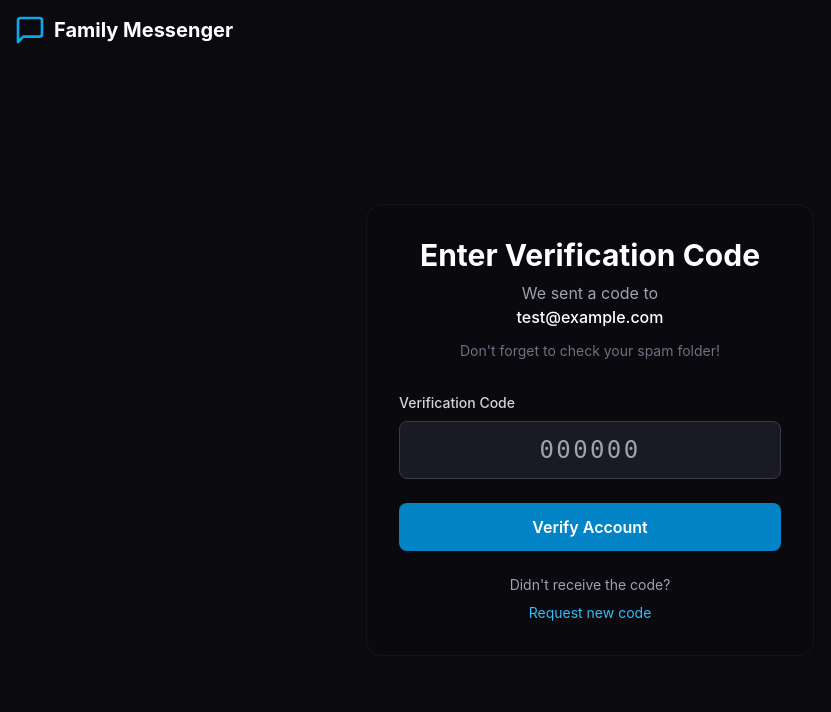
Test: Confirm Page › displays error when verification fails
Type "wrongcode" into the field labelled "Verification Code" at (590, 450), box [399, 421, 781, 479]
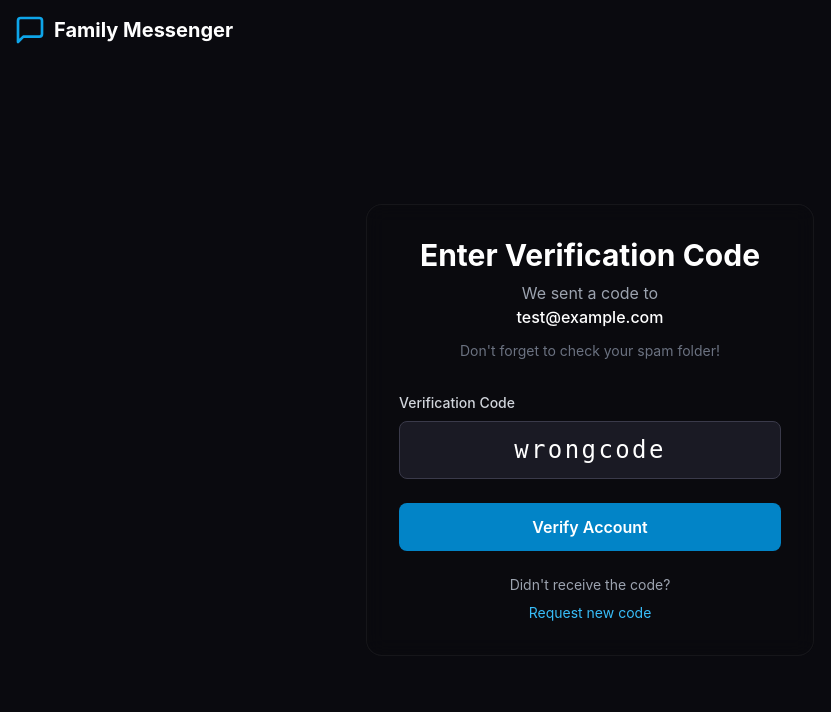
Click the button "Verify Account" at (590, 527), box [399, 503, 781, 551]
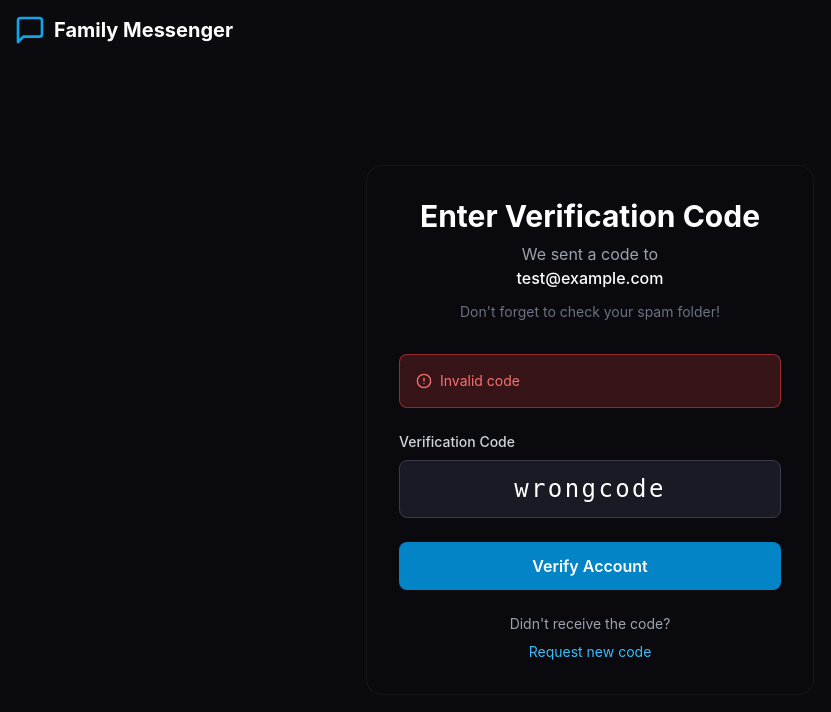
Result: the text "Invalid code" is shown at [399, 354, 781, 408]
